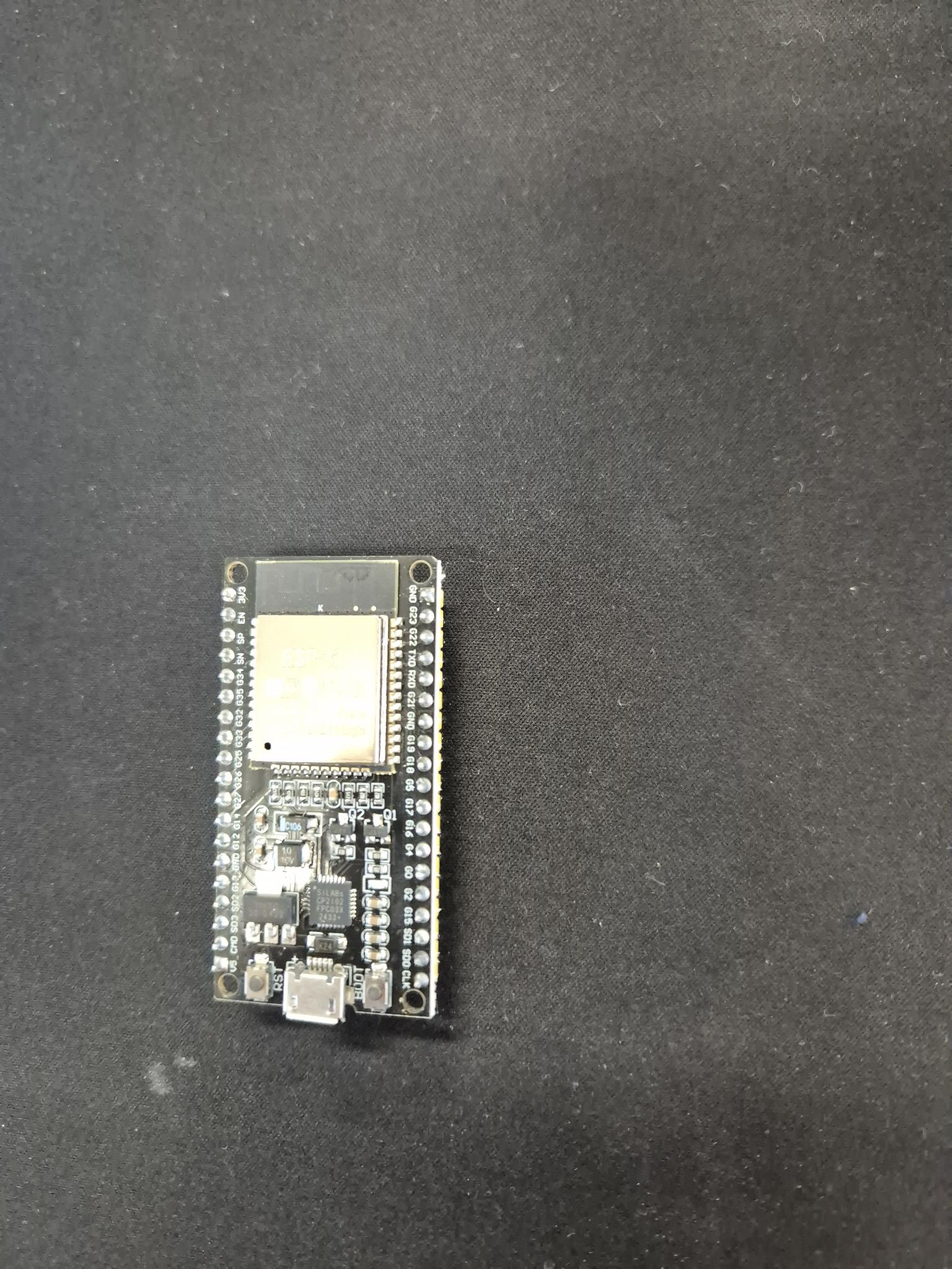esp32-dev: (213, 556, 443, 1023)
